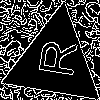R: (29, 36, 78, 79)
